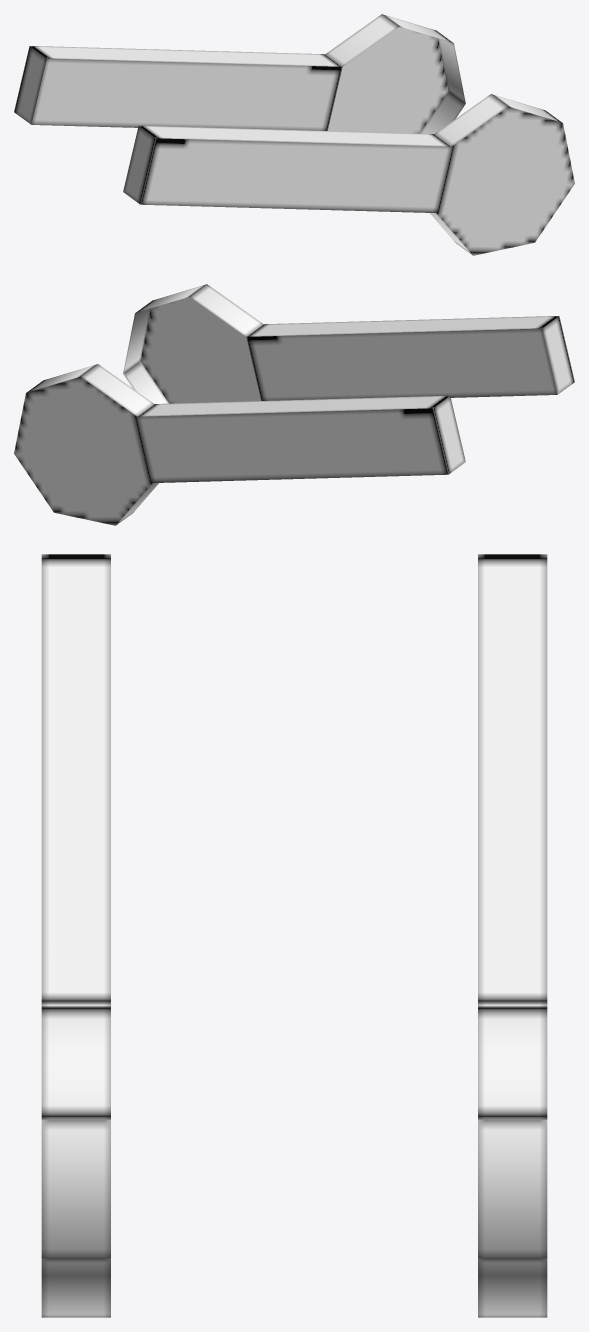
Rendered from radhalterung_h.obj.
The picture shows the model from 3 angles, top to bottom: view 1: azimuth 30°, elevation 25°; view 2: azimuth 150°, elevation 25°; view 3: azimuth 270°, elevation 25°; orthographic projection. The views are drawn at different scales.
Visible parts, largest first — view 1: cube1_sep51, cube1_sep50; view 2: cube1_sep50, cube1_sep51; view 3: cube1_sep51, cube1_sep50.
Part boxes in pixels (x1,y1,x2,y2): cube1_sep51: (123,94,574,255); cube1_sep50: (14,14,465,133); cube1_sep50: (14,364,465,525); cube1_sep51: (123,284,574,403); cube1_sep51: (41,554,110,1317); cube1_sep50: (478,554,547,1317).
Size of the model in its own units: 4.01 by 1.73 by 2.02.
Materials: 1 (1 with a texture image).
